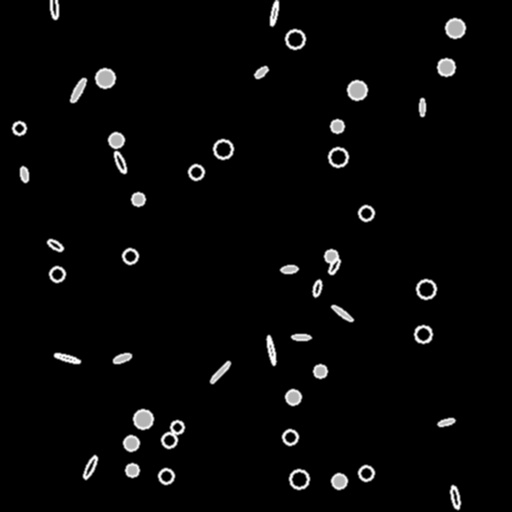pseudomonas: (209, 360, 231, 384), (69, 77, 87, 103), (81, 454, 99, 480), (331, 304, 353, 322), (112, 151, 128, 173), (53, 352, 81, 364), (266, 335, 276, 365), (269, 0, 279, 26), (327, 257, 341, 275), (253, 65, 269, 79), (47, 238, 63, 252), (450, 486, 460, 508), (113, 352, 131, 364), (312, 279, 322, 297), (19, 166, 29, 182), (50, 0, 58, 19), (280, 265, 298, 273), (438, 418, 454, 426), (292, 334, 310, 340), (420, 98, 425, 115)
synechocystis: (446, 19, 464, 37), (417, 280, 435, 298), (348, 81, 366, 99), (286, 30, 304, 48), (290, 470, 308, 488), (134, 410, 152, 428), (329, 148, 347, 166), (96, 69, 114, 87), (214, 140, 232, 158), (415, 326, 431, 342), (438, 59, 454, 75), (109, 133, 123, 147), (332, 474, 346, 488), (283, 430, 297, 444), (124, 436, 138, 450), (162, 433, 176, 447), (359, 466, 373, 480), (286, 390, 300, 404), (123, 249, 137, 263), (189, 165, 203, 179), (159, 469, 173, 483), (359, 206, 373, 220), (50, 267, 64, 281), (13, 122, 25, 134), (132, 193, 144, 205), (325, 250, 337, 262), (126, 464, 138, 476), (314, 365, 326, 377), (331, 120, 343, 132), (171, 421, 183, 433)
